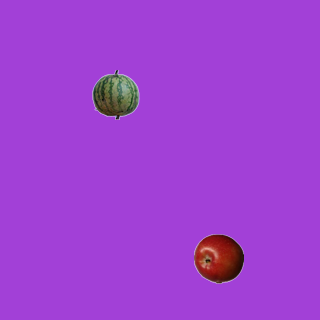Apple Braeburn: (193, 233, 243, 283)
Watermelon: (90, 69, 140, 119)
